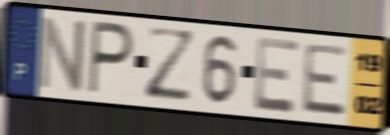6: (201, 33, 239, 108)
E: (253, 34, 303, 116), (300, 42, 350, 120)
N: (36, 13, 89, 94)
P: (85, 18, 137, 99)
Z: (143, 23, 199, 103)
